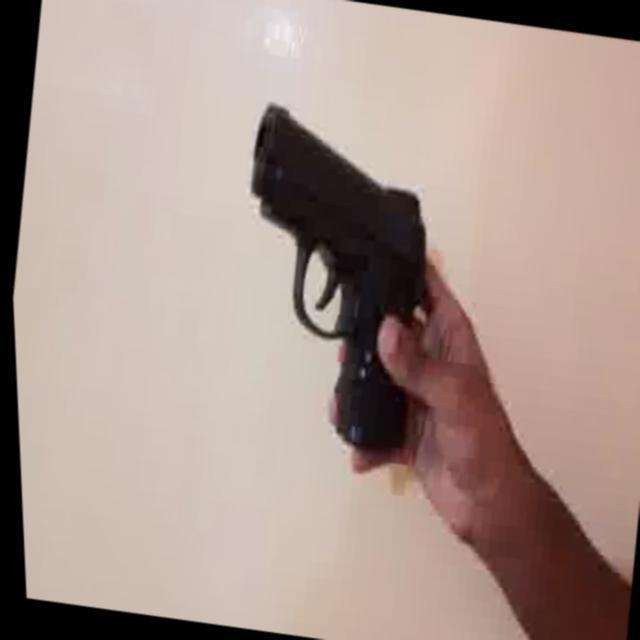weapon: (209, 96, 458, 458)
